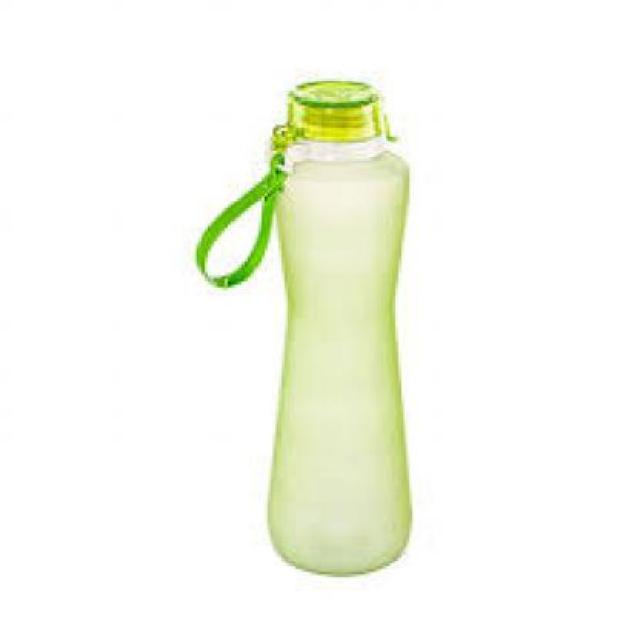Drinking: (236, 48, 435, 583)
